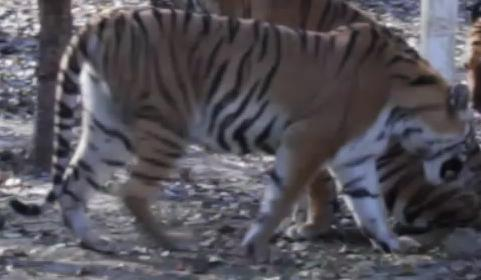tiger: (60, 0, 480, 259)
